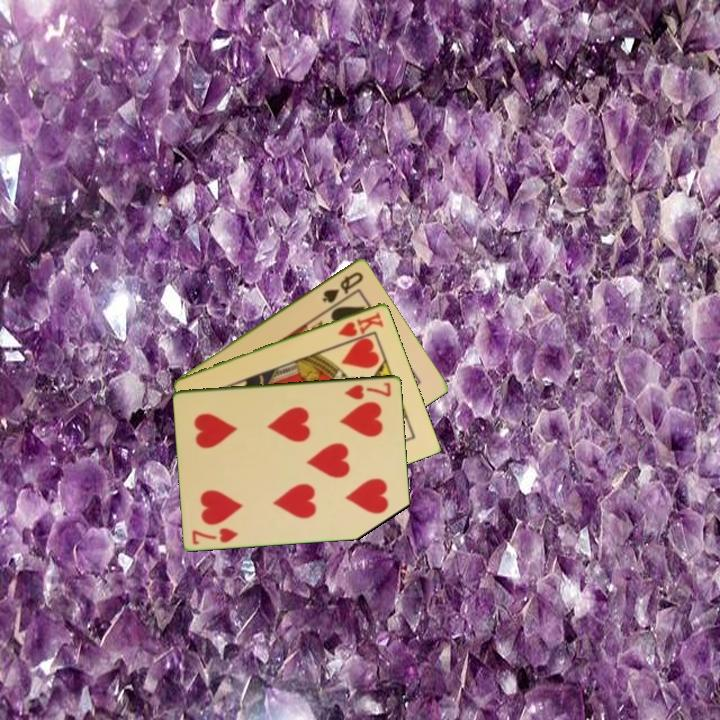7h: (341, 378, 394, 402), (189, 524, 241, 547)
Kh: (335, 308, 387, 339)
Qs: (319, 268, 366, 306)
